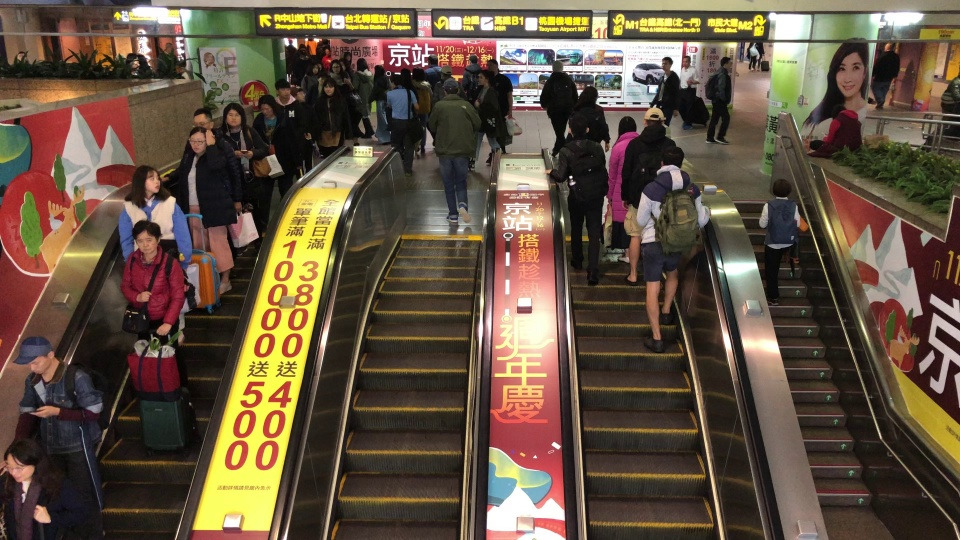person_head: (123, 165, 171, 207), (3, 440, 39, 483), (21, 337, 54, 373), (130, 219, 161, 254), (222, 103, 248, 130), (567, 112, 590, 140), (188, 127, 210, 155), (660, 146, 684, 168), (616, 116, 636, 138), (643, 107, 665, 127), (772, 178, 792, 199), (257, 95, 276, 117), (193, 108, 214, 127), (578, 86, 599, 105), (441, 77, 460, 97), (274, 78, 290, 99), (477, 69, 494, 88), (319, 80, 336, 96), (126, 52, 139, 72), (290, 87, 306, 102), (659, 56, 673, 73), (486, 58, 500, 74), (440, 65, 453, 82), (138, 53, 150, 71), (411, 66, 425, 81), (342, 51, 353, 68), (356, 58, 369, 72), (426, 54, 439, 68), (718, 56, 732, 69), (883, 41, 897, 54), (114, 54, 126, 69), (831, 106, 846, 118), (390, 75, 403, 88), (330, 59, 342, 73), (306, 63, 319, 75), (550, 60, 563, 72), (682, 54, 692, 68), (297, 44, 307, 57), (467, 54, 478, 65), (342, 72, 352, 84), (374, 65, 384, 76), (17, 51, 27, 61), (400, 68, 411, 77), (165, 41, 173, 53), (324, 48, 331, 56), (747, 37, 755, 43), (756, 35, 763, 41)
person_vbox: (13, 335, 119, 498), (119, 219, 196, 440), (636, 146, 712, 354), (115, 165, 191, 346), (544, 112, 610, 287), (178, 127, 239, 295), (622, 107, 680, 281), (425, 78, 482, 223), (1, 439, 73, 540), (758, 178, 809, 305), (159, 108, 239, 183), (221, 103, 256, 257), (251, 94, 282, 246), (609, 114, 639, 263), (385, 75, 424, 177), (539, 59, 578, 157), (273, 79, 302, 197), (466, 69, 498, 172), (806, 105, 862, 160), (566, 85, 610, 153), (485, 58, 513, 152), (704, 55, 733, 144), (314, 79, 347, 157), (290, 86, 317, 180), (649, 56, 681, 128), (350, 57, 377, 140), (410, 66, 434, 157), (871, 41, 901, 110), (674, 54, 700, 131), (368, 65, 393, 132), (342, 71, 365, 140), (433, 65, 467, 104), (290, 44, 321, 86), (399, 67, 419, 131), (461, 54, 483, 106), (423, 54, 442, 100), (299, 63, 319, 105), (327, 59, 348, 90), (340, 50, 357, 85), (750, 35, 765, 72), (319, 47, 333, 80), (745, 35, 755, 72)
